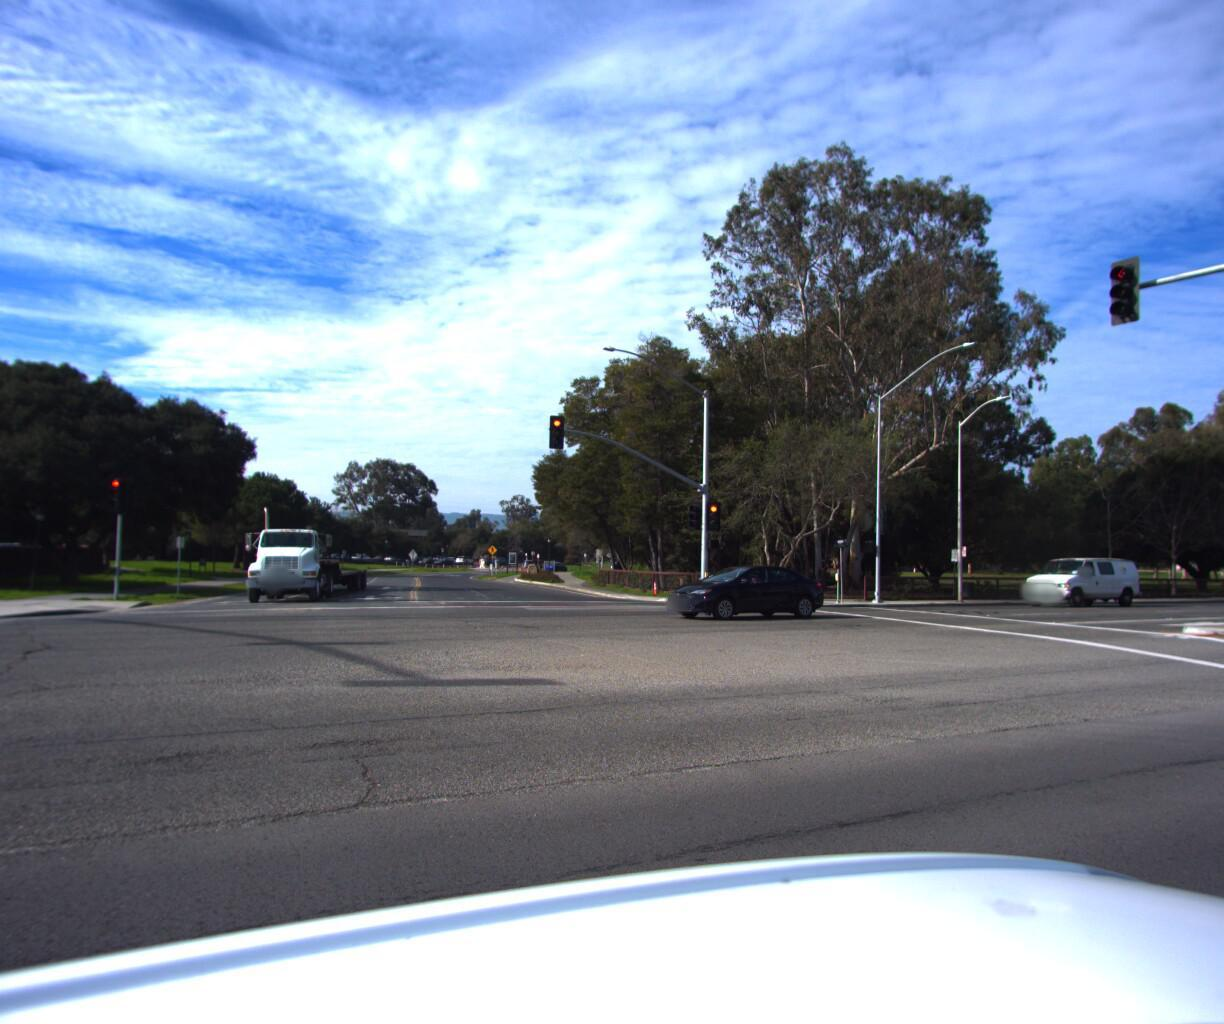car: (648, 557, 840, 617), (1016, 551, 1145, 603)
truck: (235, 513, 365, 617)
